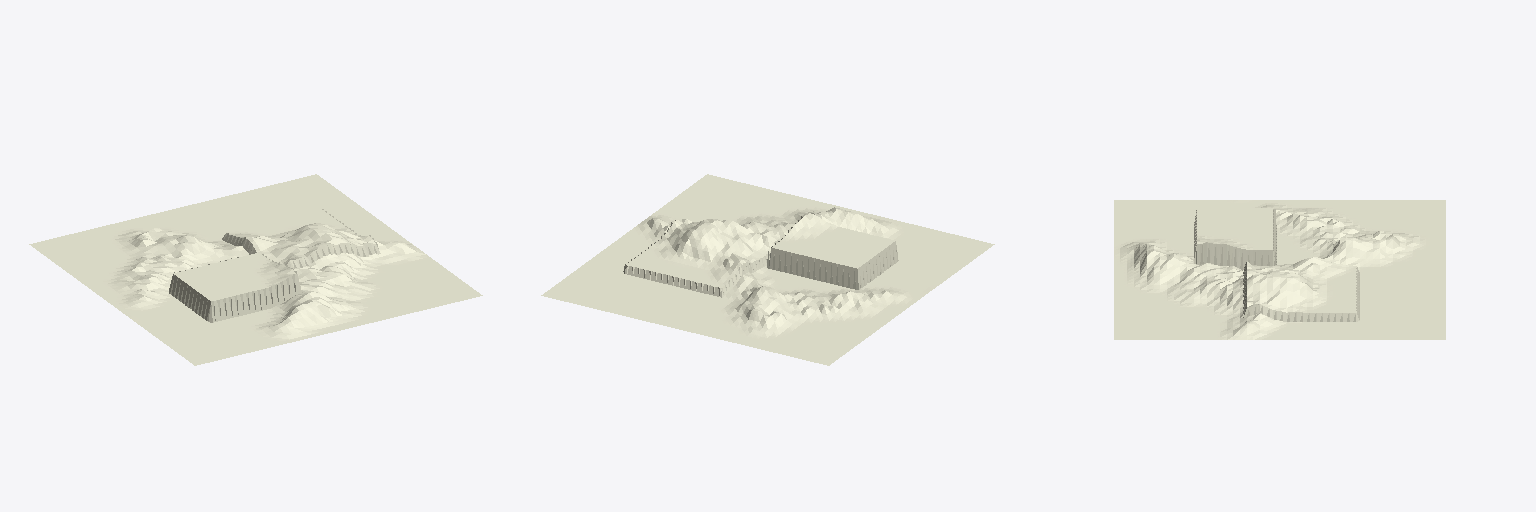
The model's file is mountainOficial.obj.
3 renders of one model, left to right at view 1: azimuth 30°, elevation 25°; view 2: azimuth 150°, elevation 25°; view 3: azimuth 270°, elevation 25°, orthographic.
Parts seen in each view (by area): view 1: default; view 2: default; view 3: default.
Boxes of the visible parts, box(x1,y1,x2,y2) form: default: box(29, 174, 482, 365); default: box(541, 174, 994, 365); default: box(1114, 200, 1445, 339).
Size of the model in its own units: 24 by 2.24 by 24.